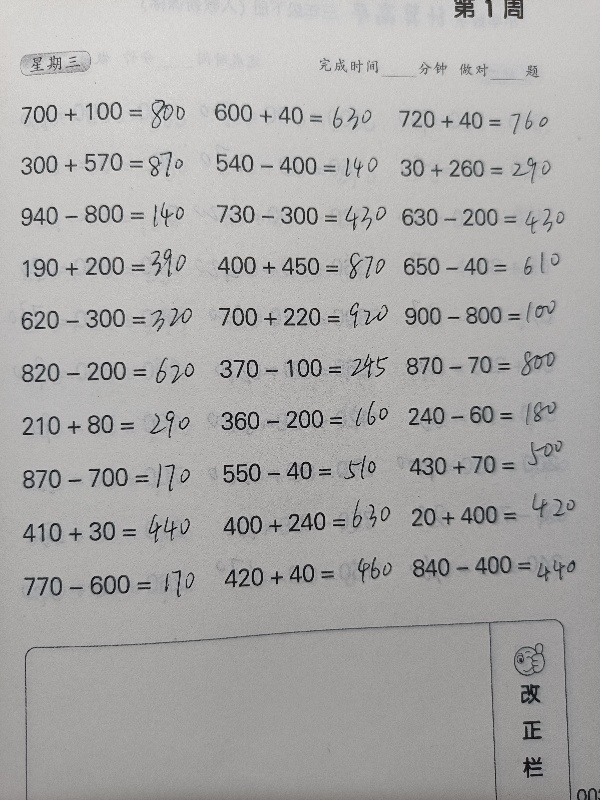equation: (13, 92, 193, 137), (14, 507, 194, 551), (15, 241, 195, 285), (214, 495, 394, 538), (211, 144, 389, 187), (16, 563, 196, 605), (14, 455, 194, 497), (13, 350, 193, 392), (209, 245, 389, 287), (12, 192, 192, 234), (400, 440, 580, 481), (212, 397, 392, 438), (211, 295, 391, 336), (393, 201, 573, 242), (208, 197, 388, 238), (13, 144, 193, 185), (212, 346, 392, 386), (398, 344, 578, 384), (393, 150, 573, 190), (403, 547, 583, 586), (13, 301, 193, 340), (391, 103, 571, 142), (205, 96, 385, 134), (399, 396, 579, 433), (13, 406, 193, 442), (395, 296, 575, 332), (215, 557, 395, 592), (214, 454, 394, 489), (402, 498, 582, 532), (395, 250, 575, 283)
